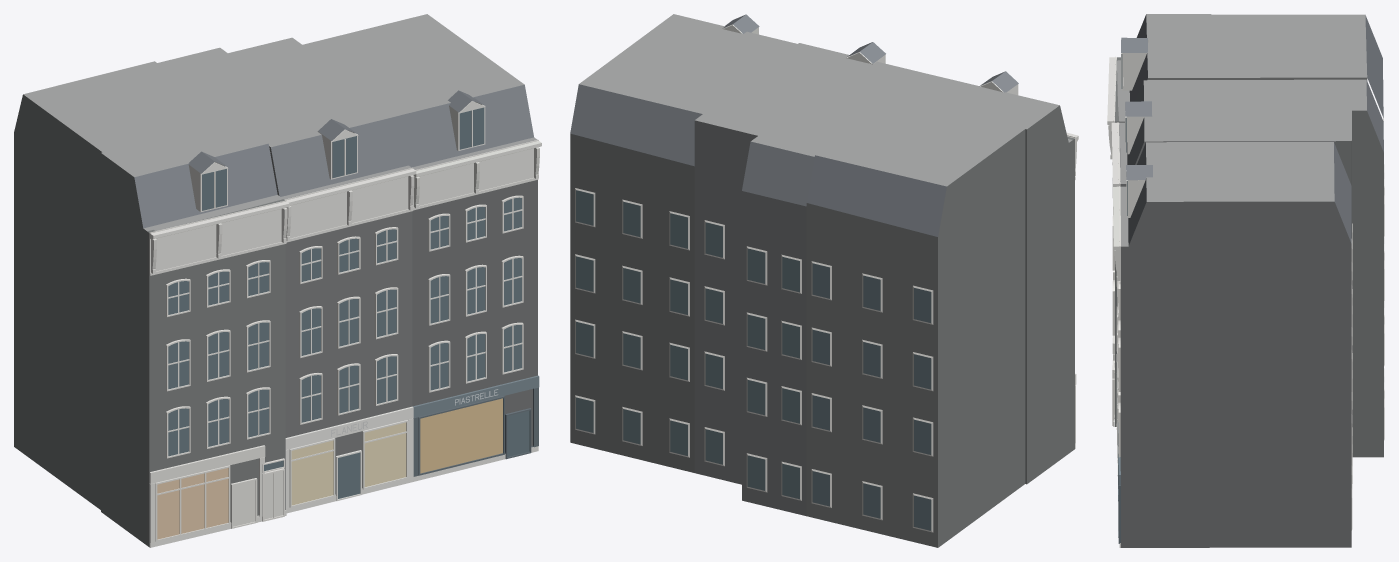
Rendered from chunk-face-baerle-14-18.glb.
3 renders of one model, left to right at view 1: azimuth 30°, elevation 25°; view 2: azimuth 150°, elevation 25°; view 3: azimuth 270°, elevation 25°, orthographic. The views are drawn at different scales.
Parts seen in each view (by area): view 1: face-baerle-14-18; view 2: face-baerle-14-18; view 3: face-baerle-14-18.
Boxes of the visible parts, x1,y1,x2,y2 form: face-baerle-14-18: (14, 14, 541, 547); face-baerle-14-18: (570, 14, 1078, 547); face-baerle-14-18: (1107, 14, 1384, 547).
Bounding box in the file's own units: 23.17 × 20.82 × 14.66.
